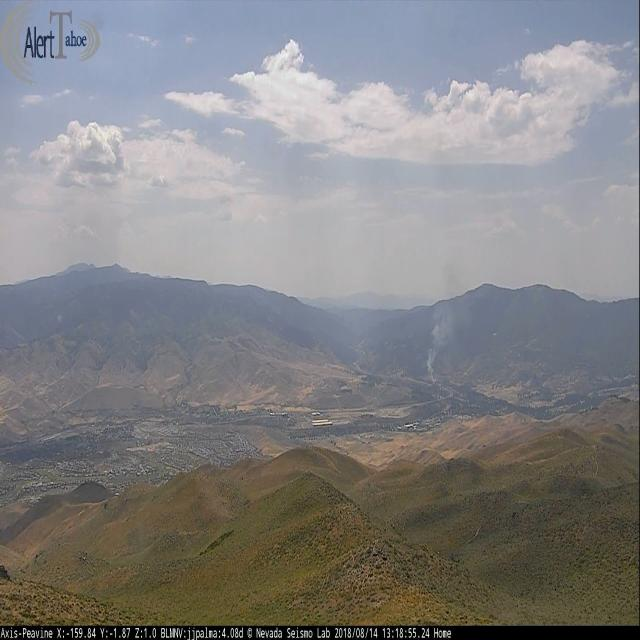smoke: (426, 303, 456, 384)
